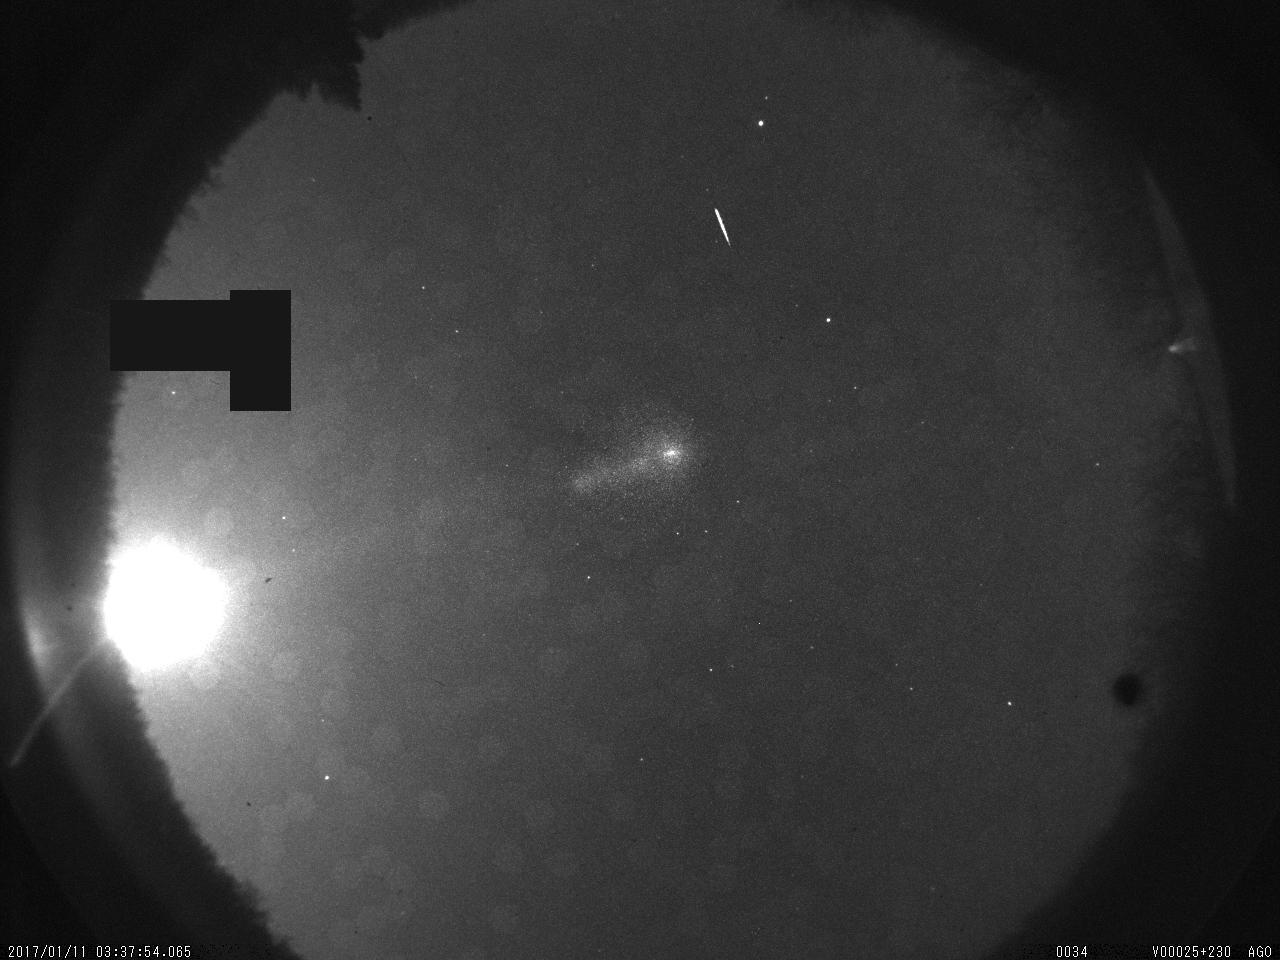meteor: (685, 195, 783, 271)
